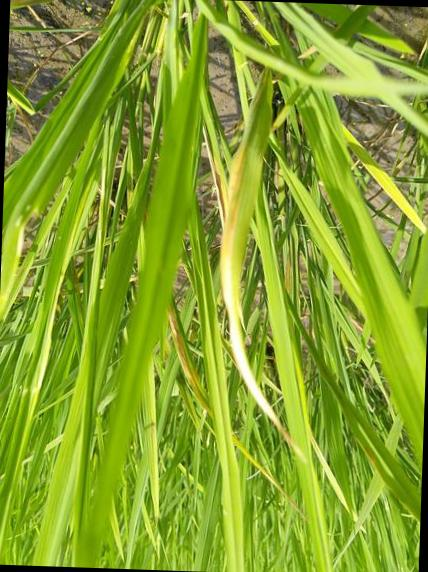Leaf Blight: (219, 67, 296, 446)
Leaf Streak: (168, 308, 210, 412)
